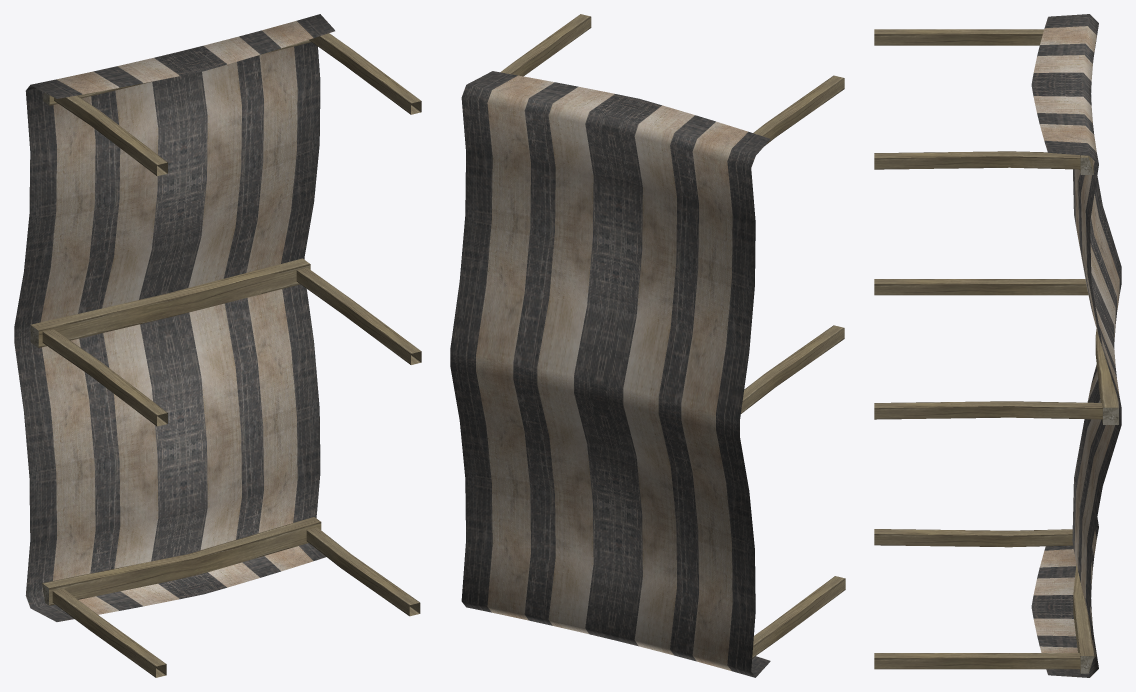
The model's file is Merchant_Tent_Type_01_C.fbx.
3 views of the same model, side by side, from view 1: azimuth 30°, elevation 25°; view 2: azimuth 150°, elevation 25°; view 3: azimuth 270°, elevation 25° (orthographic).
Visible parts, largest first — view 1: Merchant_Tent_Type_01_C; view 2: Merchant_Tent_Type_01_C; view 3: Merchant_Tent_Type_01_C.
Boxes of the visible parts, box(x1,y1,x2,y2) form: Merchant_Tent_Type_01_C: box(14, 14, 421, 677); Merchant_Tent_Type_01_C: box(450, 14, 845, 677); Merchant_Tent_Type_01_C: box(874, 14, 1121, 677).
Size of the model in its own units: 5.26 by 9.08 by 3.89.
